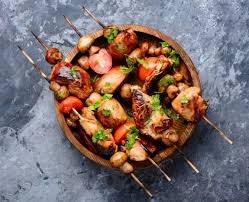sate: (11, 5, 226, 174)
